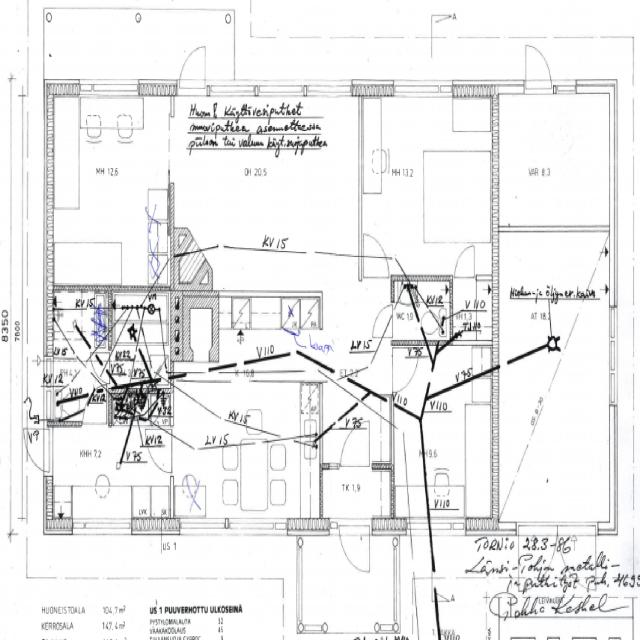door: (518, 520, 557, 598), (557, 520, 596, 598), (339, 517, 369, 584), (179, 36, 205, 96), (18, 429, 54, 471), (341, 416, 369, 469), (526, 39, 551, 94), (391, 348, 421, 392), (144, 430, 174, 473), (364, 233, 388, 280), (83, 382, 107, 427), (371, 304, 394, 338), (454, 242, 474, 280), (90, 352, 112, 382)
